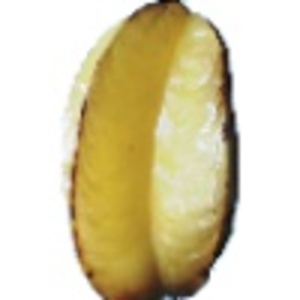carambola: (61, 1, 240, 300)
